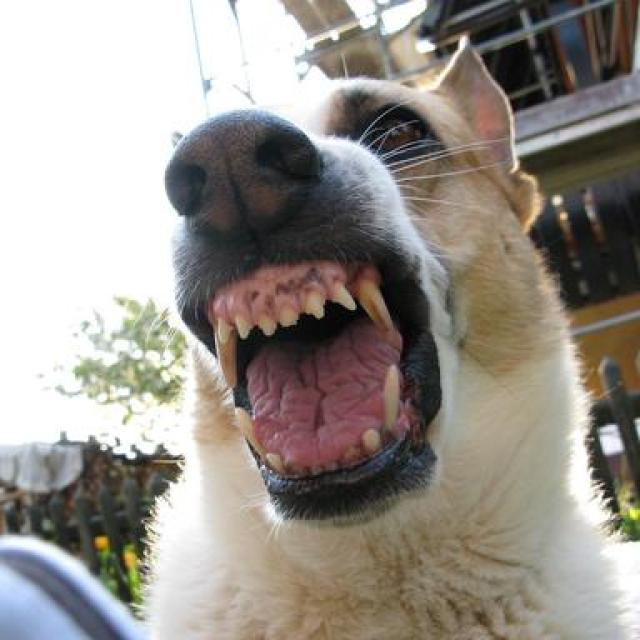angry: (114, 35, 584, 623)
